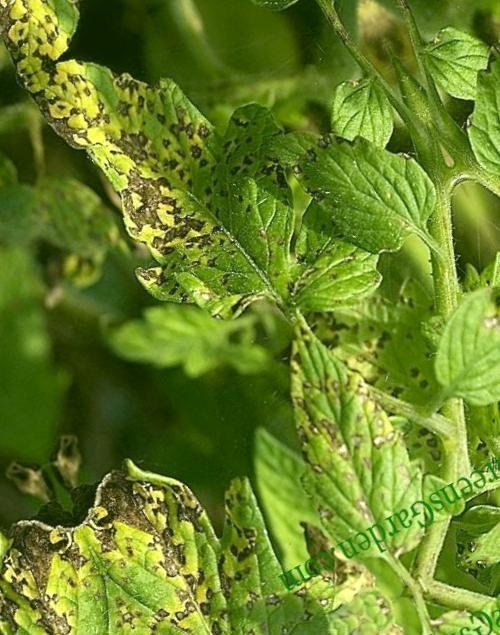Tomato Septoria leaf spot: (14, 0, 329, 372), (224, 289, 450, 578), (65, 409, 329, 635)
